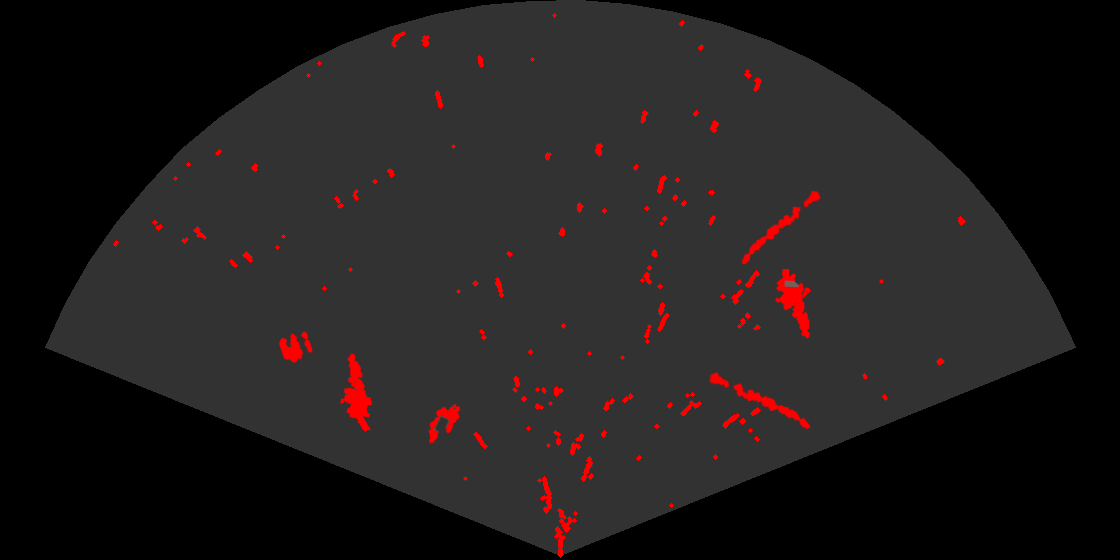AUV: (427, 402, 462, 445)
ball: (277, 330, 314, 364)
chain: (707, 370, 812, 431), (740, 189, 822, 266)
frogman: (338, 352, 374, 430), (773, 269, 811, 339)
